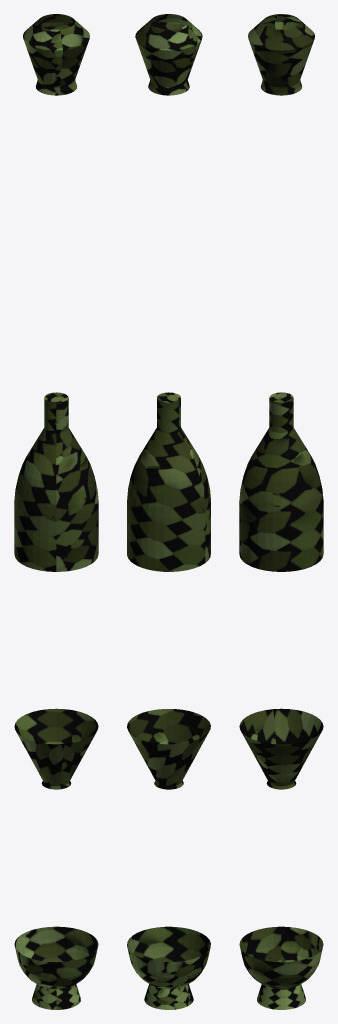
Rendered from modern_scandinavian_kitchen_island_7.obj.
3 views of the same model, side by side, from view 1: azimuth 90°, elevation 25°; view 2: azimuth 150°, elevation 25°; view 3: azimuth 270°, elevation 25° (orthographic).
Bounding box in the file's own units: 0.1867 × 2.4 × 0.1867.
